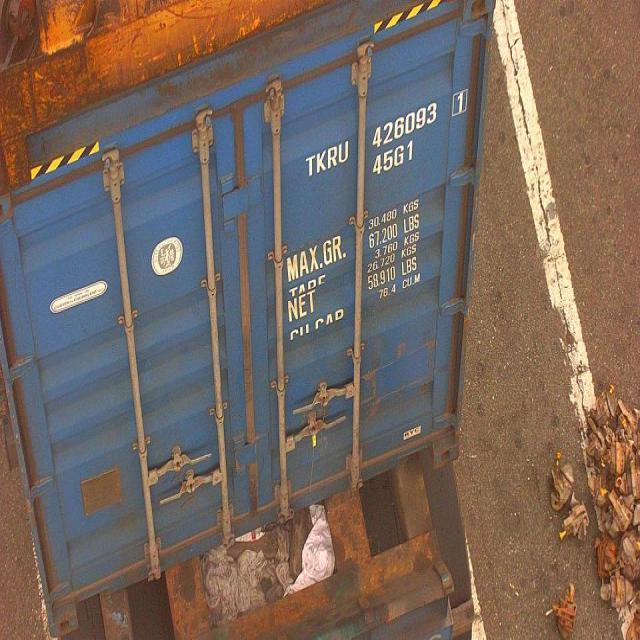ISO: (374, 138, 414, 179)
container_number: (301, 88, 469, 180)
